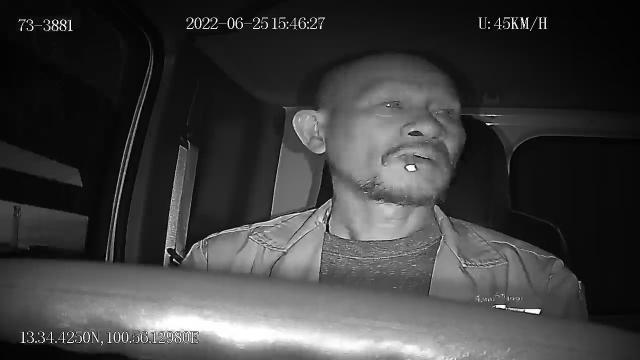SafeDriving: (367, 88, 412, 118)
Smoking: (405, 154, 417, 172)
